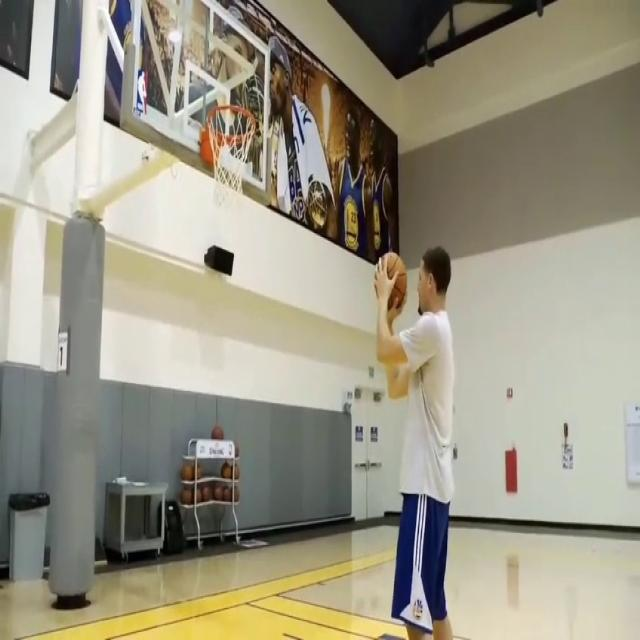ball: (373, 252, 408, 310)
